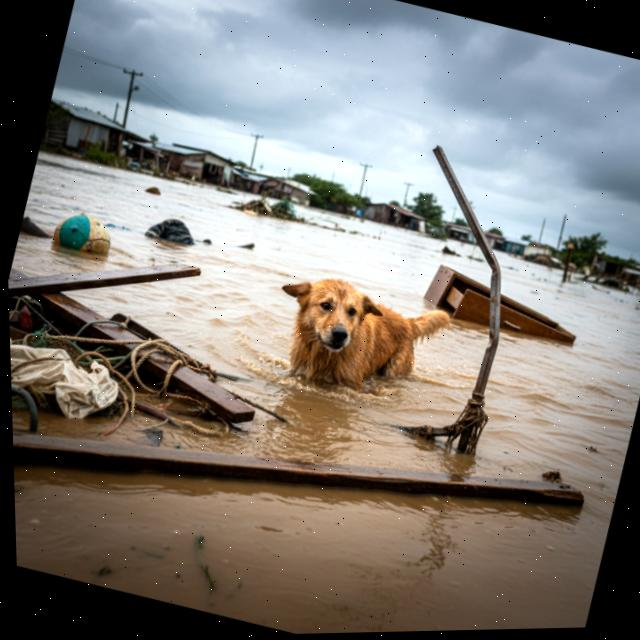dog: (242, 247, 472, 436)
